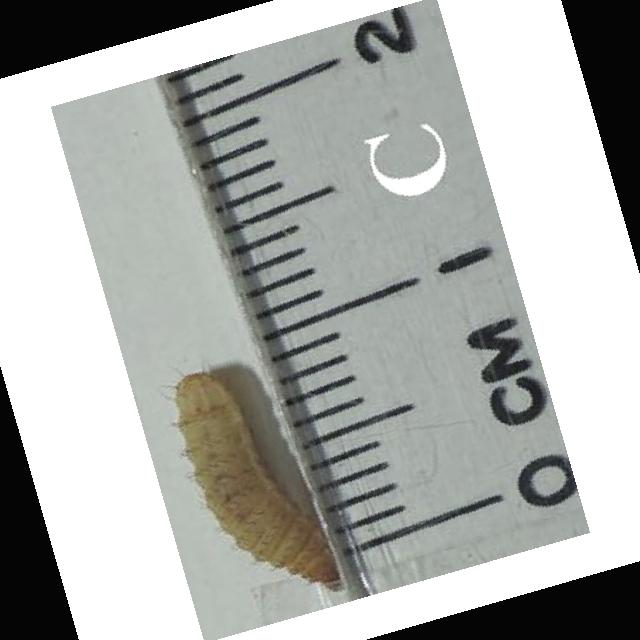Maggot: (177, 372, 341, 587)
